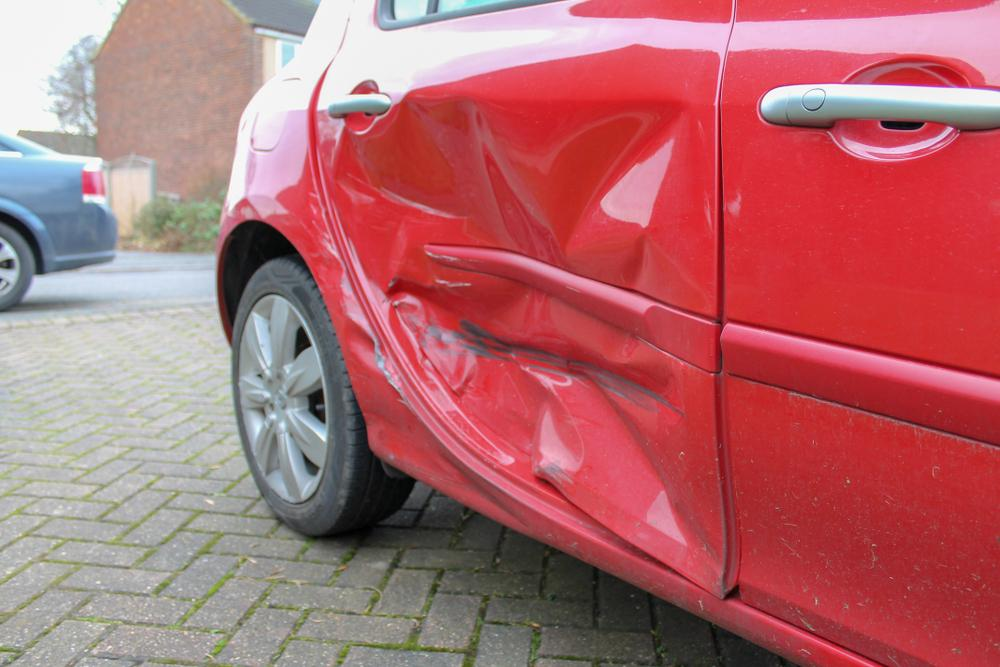dent: (334, 87, 714, 559)
